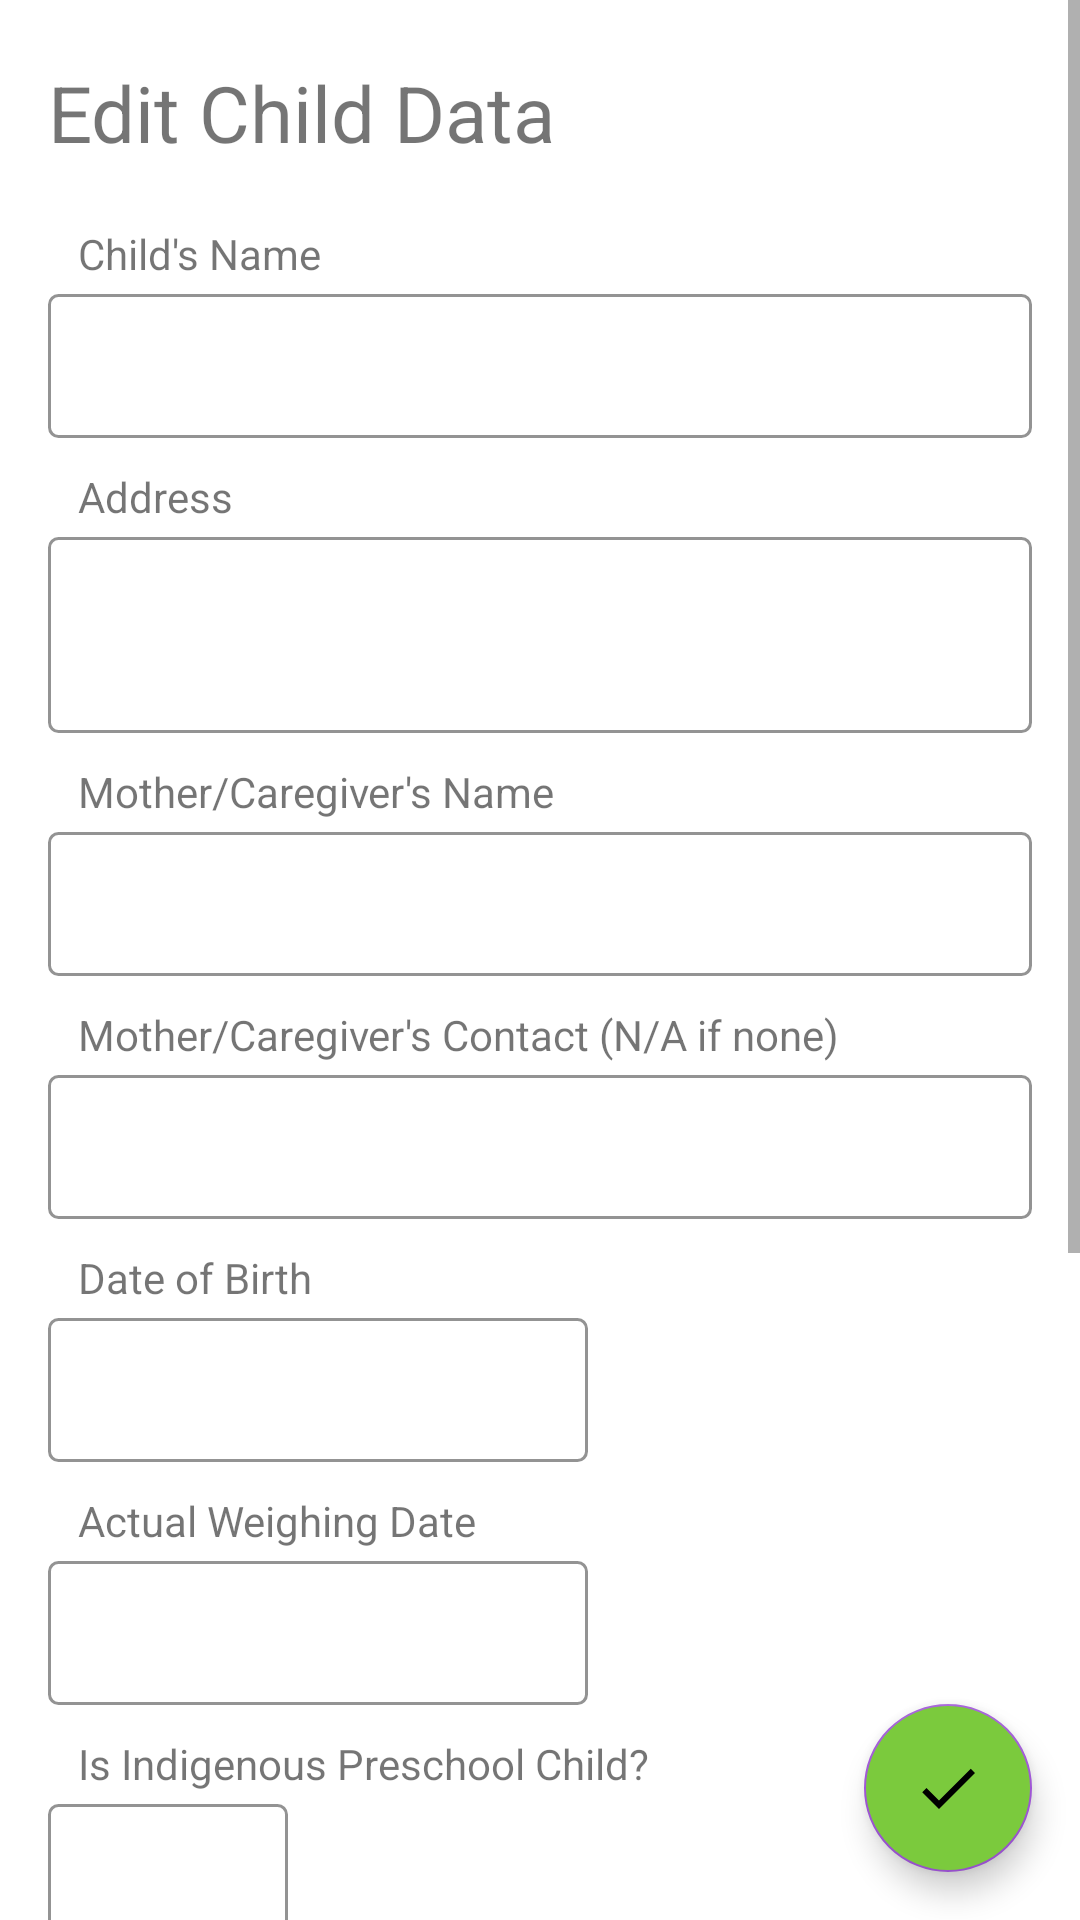

Icon click points for this 1080*1920 phone screenshot, format (x=x, y=y):
update button: (x=948, y=1788)
